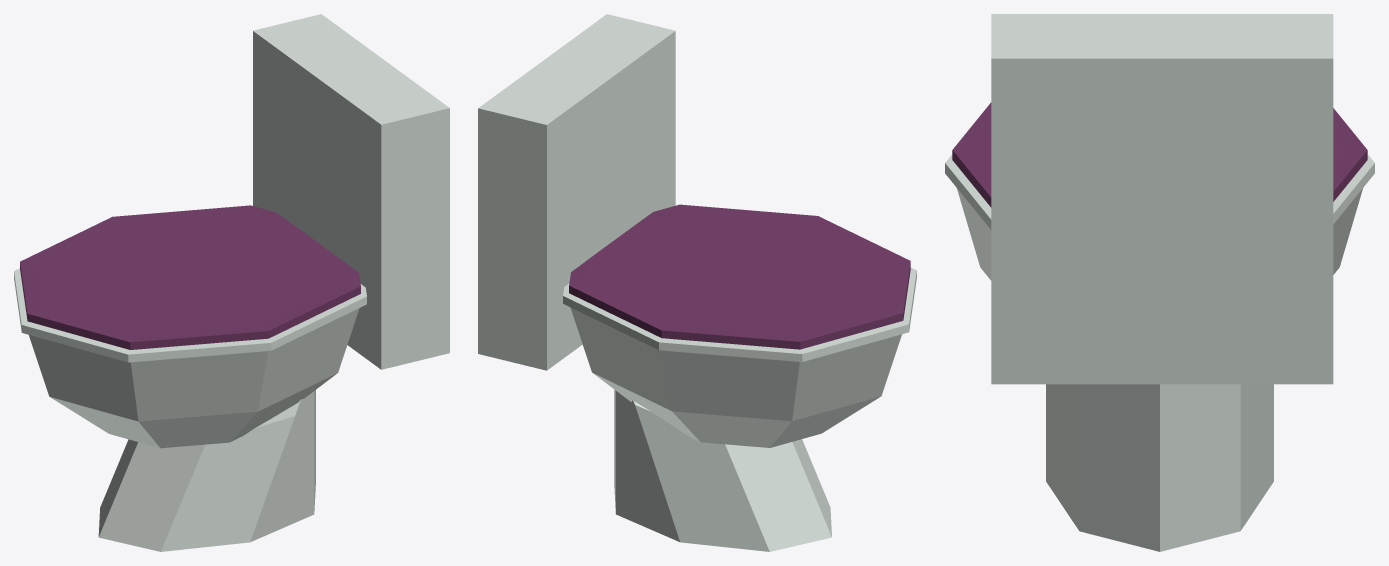
The model's file is toilet.glb.
The picture shows the model from 3 angles, left to right: view 1: azimuth 30°, elevation 25°; view 2: azimuth 150°, elevation 25°; view 3: azimuth 270°, elevation 25°; orthographic projection. The views are drawn at different scales.
Parts seen in each view (by area): view 1: Cube, Sphere.002, Sphere, toilet, Sphere.001; view 2: Cube, Sphere.002, Sphere, toilet, Sphere.001; view 3: Cube, toilet, Sphere.002, Sphere, Sphere.001.
Boxes of the visible parts, x1,y1,x2,y2 form: Cube: (253,14,449,369); Sphere.002: (20,205,360,349); Sphere: (29,308,359,448); toilet: (98,390,315,551); Sphere.001: (14,268,366,362); Cube: (478,14,675,370); Sphere.002: (569,204,910,349); Sphere: (570,307,901,447); toilet: (614,389,831,551); Sphere.001: (563,267,916,361); Cube: (991,14,1333,384); toilet: (1046,384,1273,551); Sphere.002: (952,102,1367,207); Sphere: (957,188,1362,280); Sphere.001: (945,154,1374,229).
Bounding box in the file's own units: 1.46 × 1.55 × 1.12.
2 materials, 2 textured.
